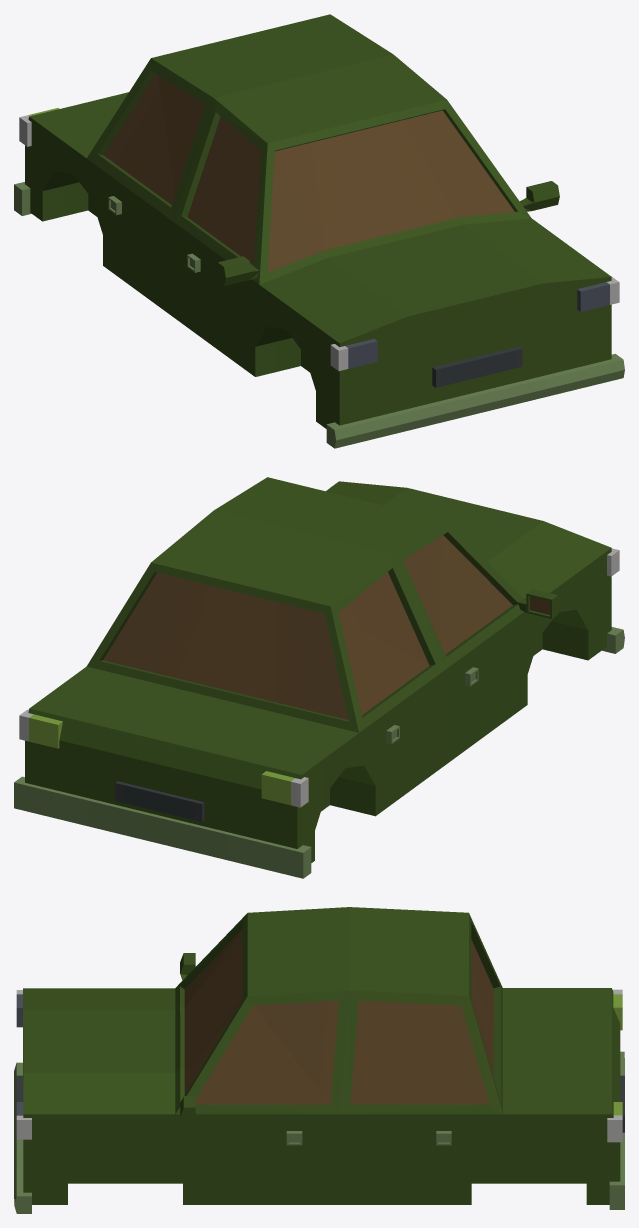
Rendered from Car_01.fbx.
3 renders of one model, top to bottom at view 1: azimuth 30°, elevation 25°; view 2: azimuth 150°, elevation 25°; view 3: azimuth 270°, elevation 25°, orthographic. The views are drawn at different scales.
Parts seen in each view (by area): view 1: Car_01; view 2: Car_01; view 3: Car_01.
Boxes of the visible parts, bbox=[...] form: Car_01: bbox=[14, 14, 624, 448]; Car_01: bbox=[14, 477, 624, 878]; Car_01: bbox=[14, 907, 624, 1213].
Size of the model in its own units: 1.97 by 1.17 by 3.28.
